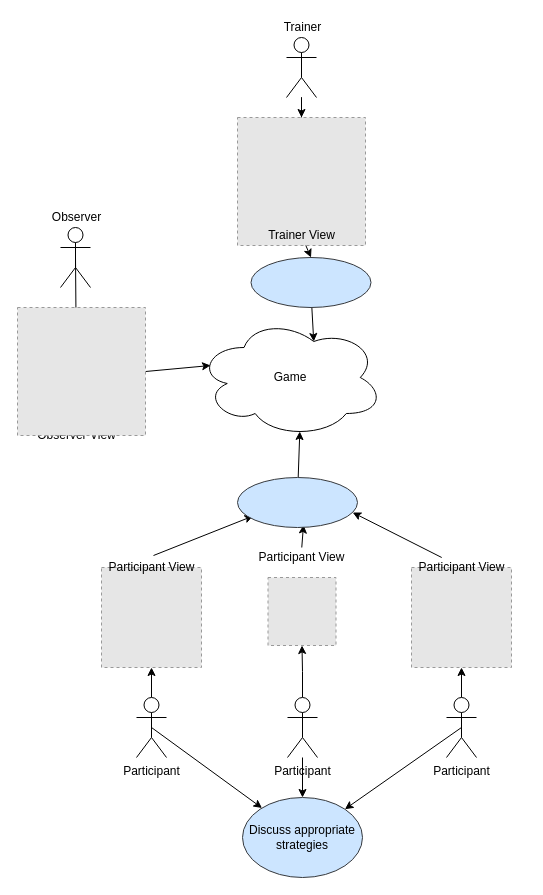
The diagram is 543 pixels wide and 895 high, and some of its shapes have lost their labels. Grey dashed boxes stand in for pictures. Each missing label, with the centre of its shape:
"Change rules and variables" belongs at [310,282].
"Submit answers" belongs at [297,502].
